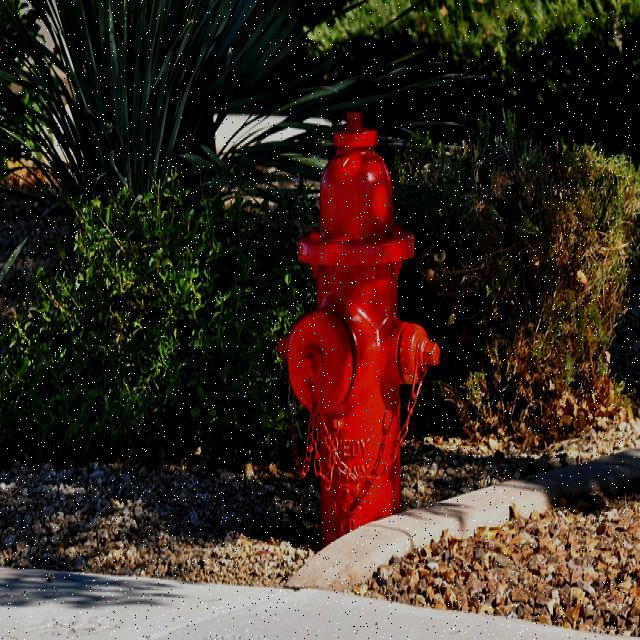fire_hydrant: (275, 109, 438, 546)
